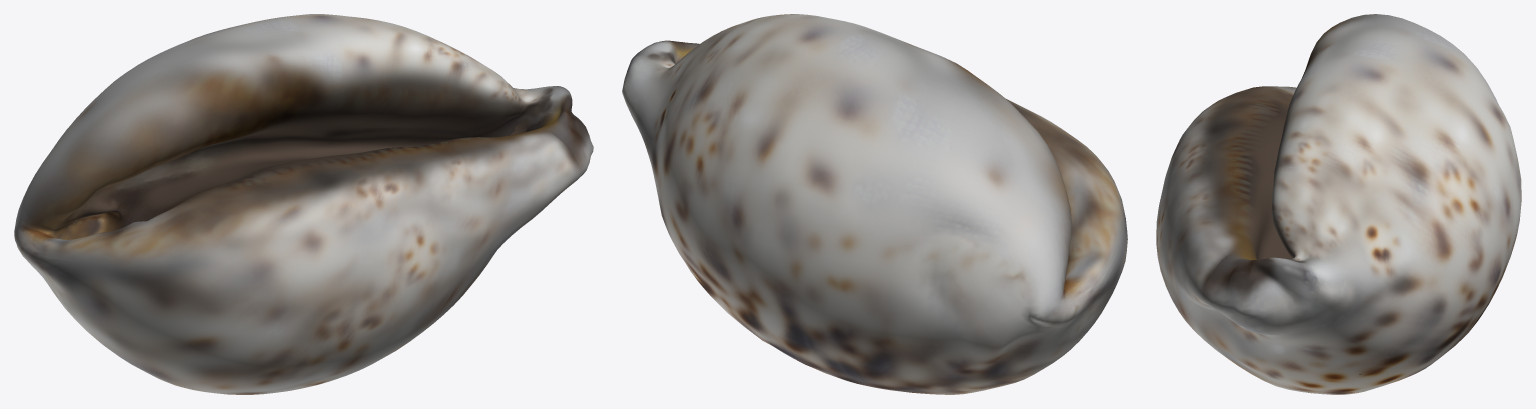
Rendered from conch 12.fbx.
The picture shows the model from 3 angles, left to right: view 1: azimuth 30°, elevation 25°; view 2: azimuth 150°, elevation 25°; view 3: azimuth 270°, elevation 25°; orthographic projection. The views are drawn at different scales.
Visible parts, largest first — view 1: conch; view 2: conch; view 3: conch.
Part boxes in pixels (x1,y1,x2,y2): conch: [14, 14, 593, 394]; conch: [622, 14, 1127, 394]; conch: [1156, 14, 1521, 394].
Bounding box in the file's own units: 99.67 × 63.83 × 64.16.
1 material, 1 textured.
